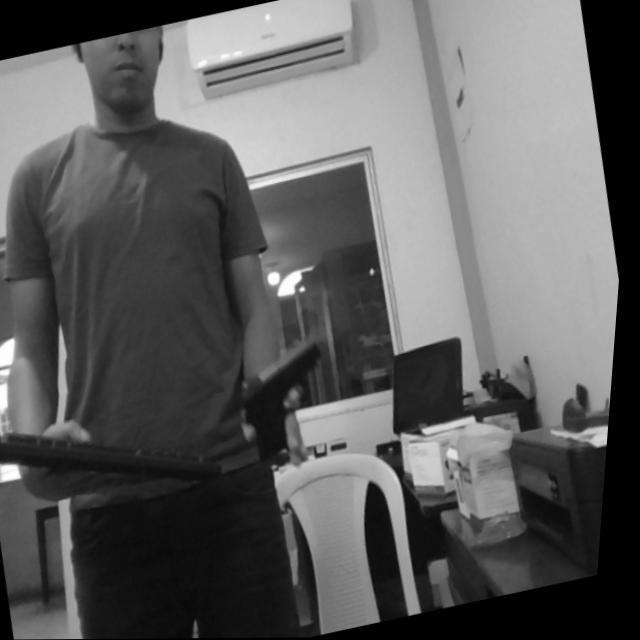weapon: (221, 330, 351, 478)
